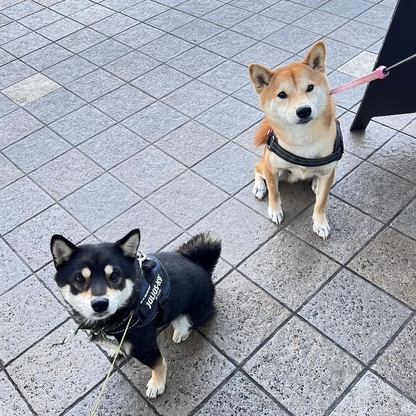shiba: (32, 216, 231, 405), (244, 39, 346, 245)
